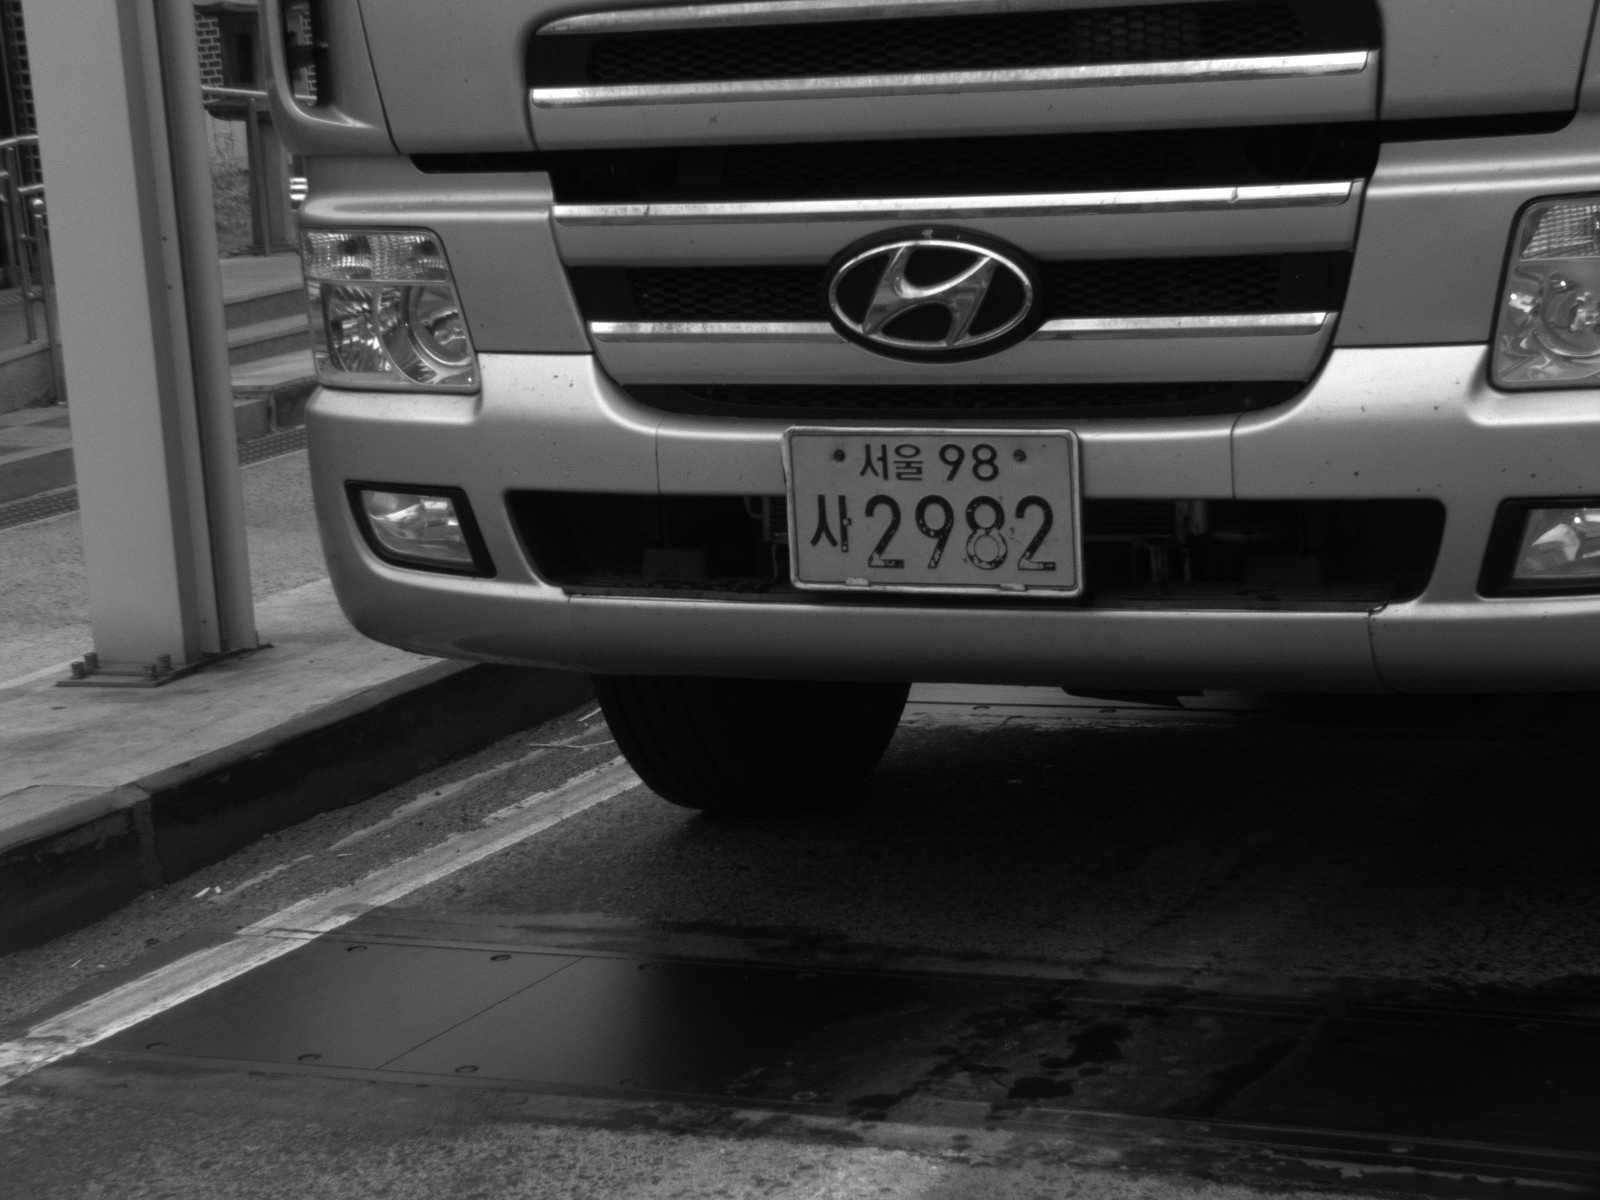car: (249, 1, 1600, 817)
plate: (782, 422, 1085, 595)
